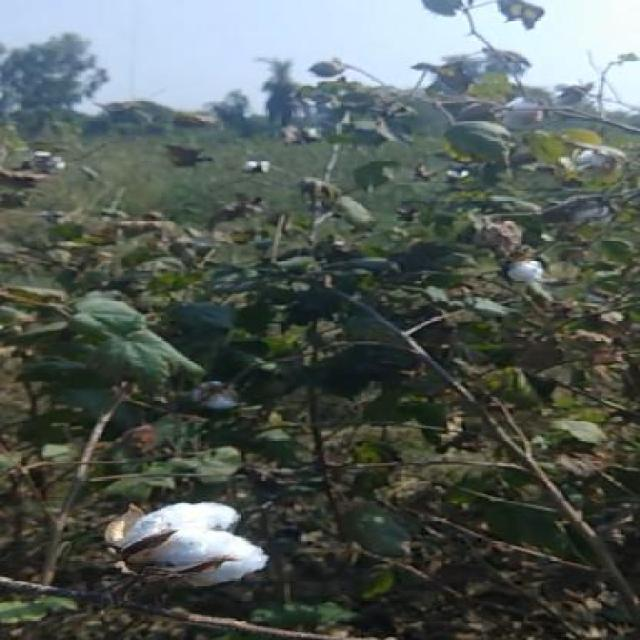cotton_ready: (81, 494, 277, 598)
